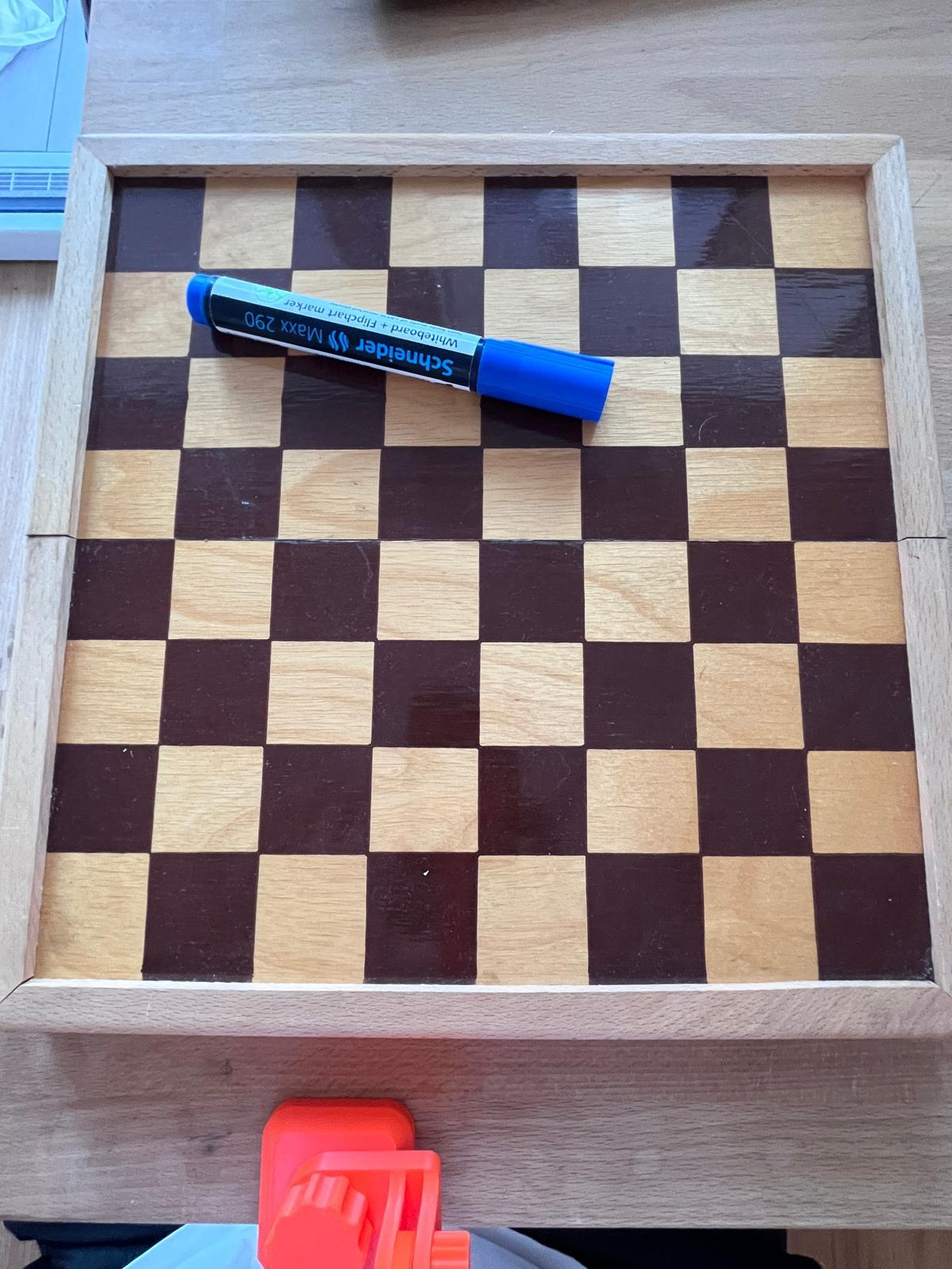marker: (190, 270, 617, 435)
